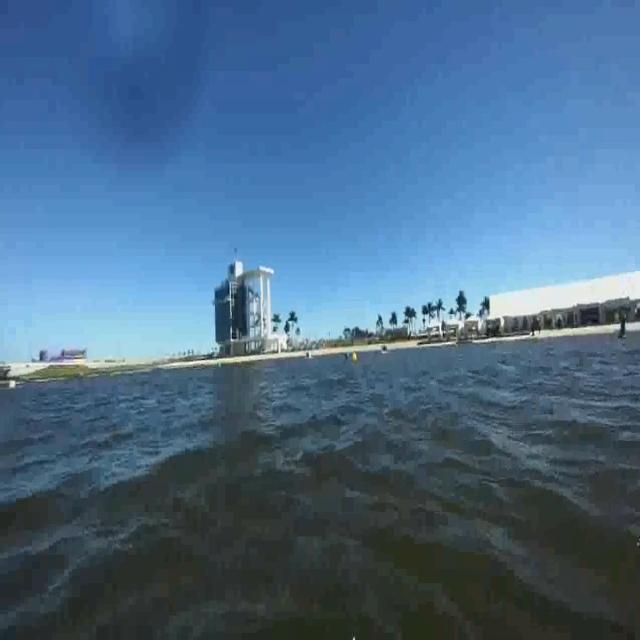green-column-buoy: (618, 313, 629, 343)
yellow-buoy: (352, 352, 359, 364)
